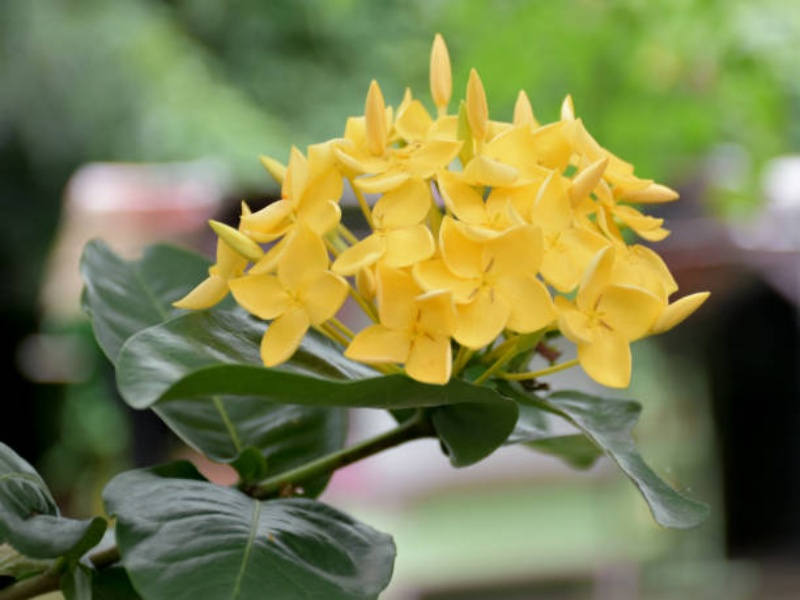Ixora: (160, 21, 730, 421)
